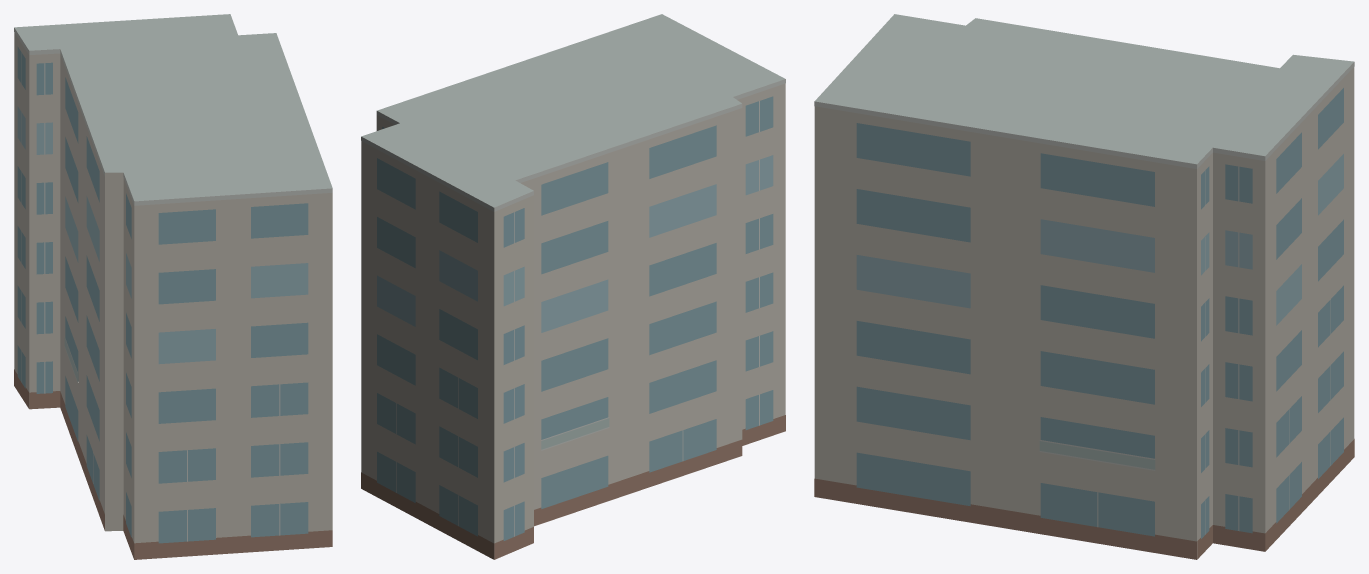
The model's file is survey-upis-32954827.glb.
The picture shows the model from 3 angles, left to right: view 1: azimuth 30°, elevation 25°; view 2: azimuth 150°, elevation 25°; view 3: azimuth 270°, elevation 25°; orthographic projection. The views are drawn at different scales.
Visible parts, largest first — view 1: survey-upis-32954827.tmp; view 2: survey-upis-32954827.tmp; view 3: survey-upis-32954827.tmp.
Part boxes in pixels (box(x1,y1,x2,y2)): survey-upis-32954827.tmp: box(14, 14, 332, 559); survey-upis-32954827.tmp: box(361, 14, 785, 559); survey-upis-32954827.tmp: box(814, 14, 1354, 559).
Size of the model in its own units: 16.19 by 19.85 by 24.57.
